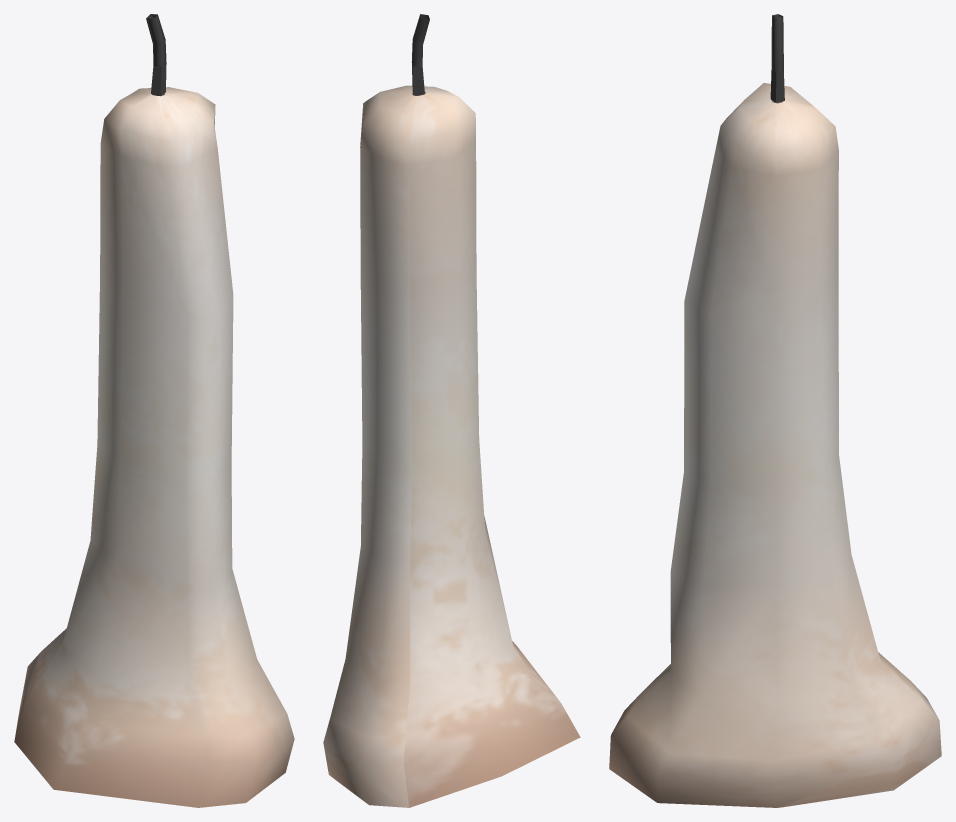
The model's file is Bougie_A.FBX.
3 views of the same model, side by side, from view 1: azimuth 30°, elevation 25°; view 2: azimuth 150°, elevation 25°; view 3: azimuth 270°, elevation 25° (orthographic). The views are drawn at different scales.
Parts seen in each view (by area): view 1: Z3_Candle_1; view 2: Z3_Candle_1; view 3: Z3_Candle_1.
Boxes of the visible parts, box(x1,y1,x2,y2) form: Z3_Candle_1: box(14, 14, 294, 807); Z3_Candle_1: box(323, 14, 580, 807); Z3_Candle_1: box(609, 14, 941, 807).
Bounding box in the file's own units: 19.09 × 62.96 × 25.12.
